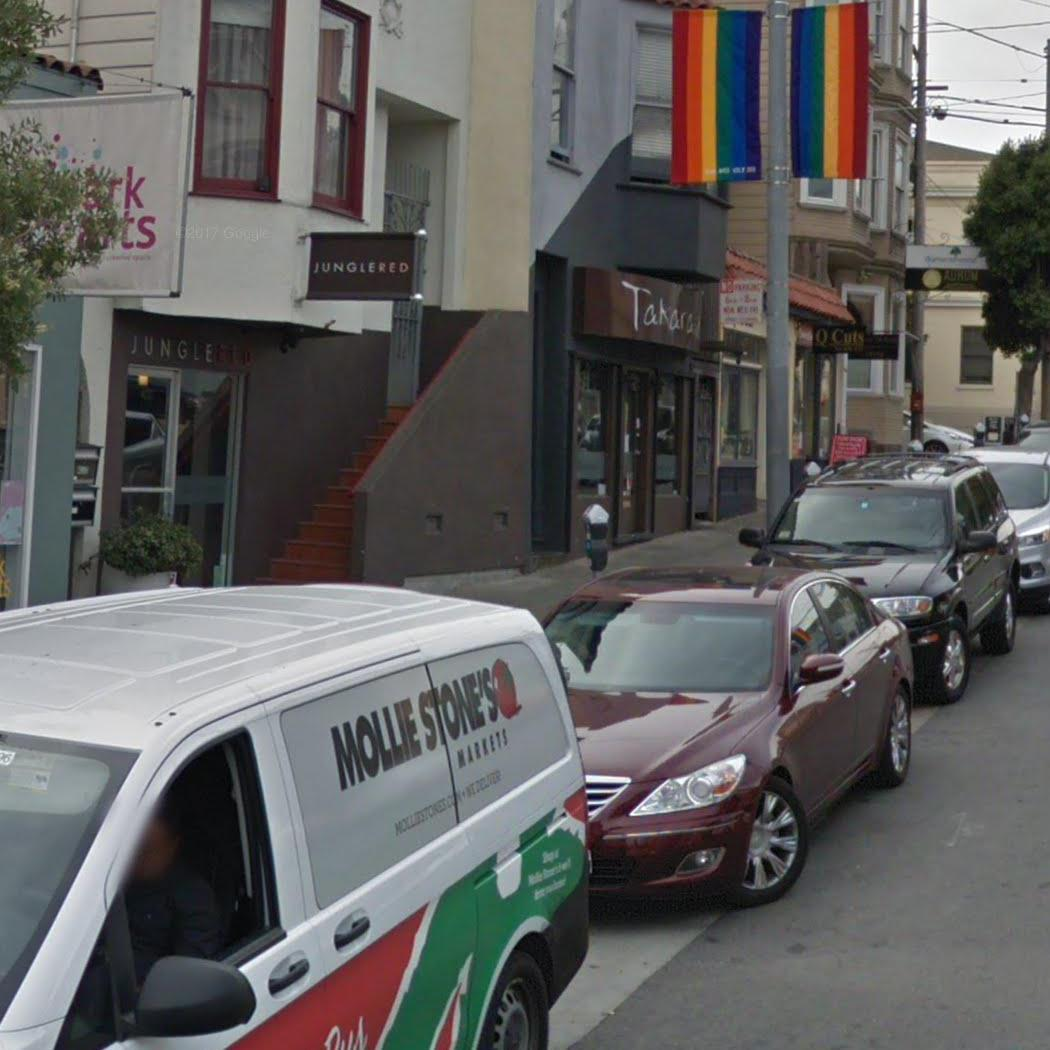No Parking: (713, 269, 767, 330)
